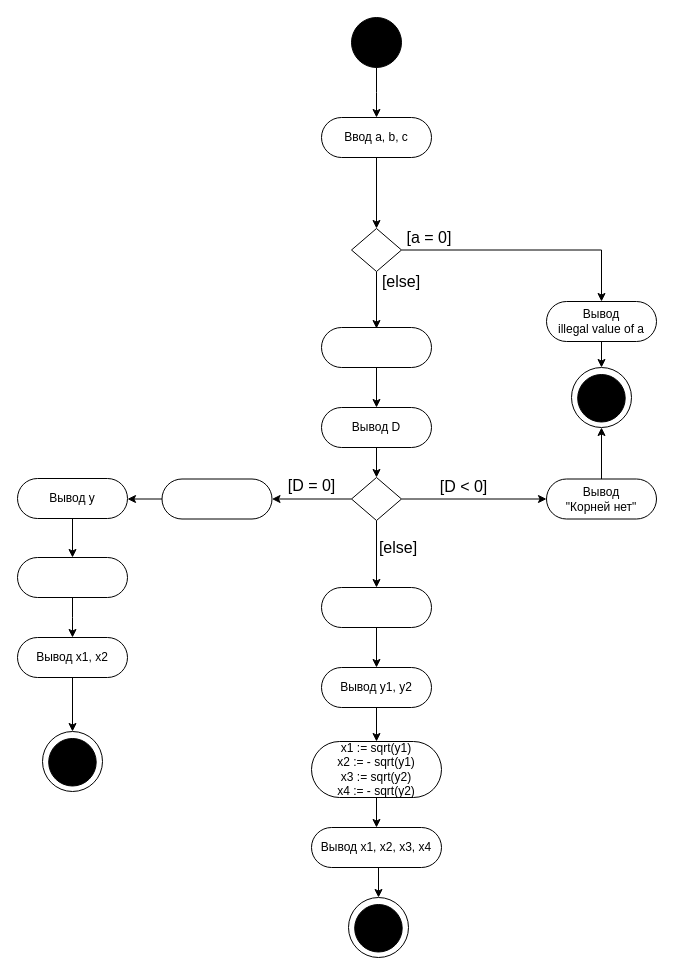
Image size: 674x975. Some labels were removed from this diagram. The centre of each missing label's shape, as x and y in pixels:
"D := b**2 - 4*a*c" belongs at (x=376, y=347).
"x1 := sqrt(y) x2 := - sqrt(y)" belongs at (x=72, y=577).
"y := -b / 2*a" belongs at (x=216, y=498).
"y1 := -b + D / 2 *a y2 := -b - D / 2 * a" belongs at (x=376, y=607).
